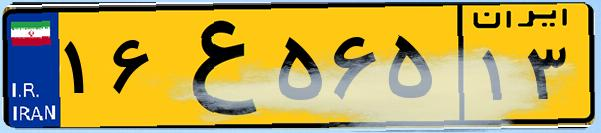1: (57, 26, 110, 100), (475, 38, 525, 113)
3: (525, 38, 570, 115)
5: (270, 28, 330, 110), (385, 28, 445, 110)
6: (330, 28, 385, 110), (110, 28, 158, 98)
ع: (158, 12, 270, 120)
